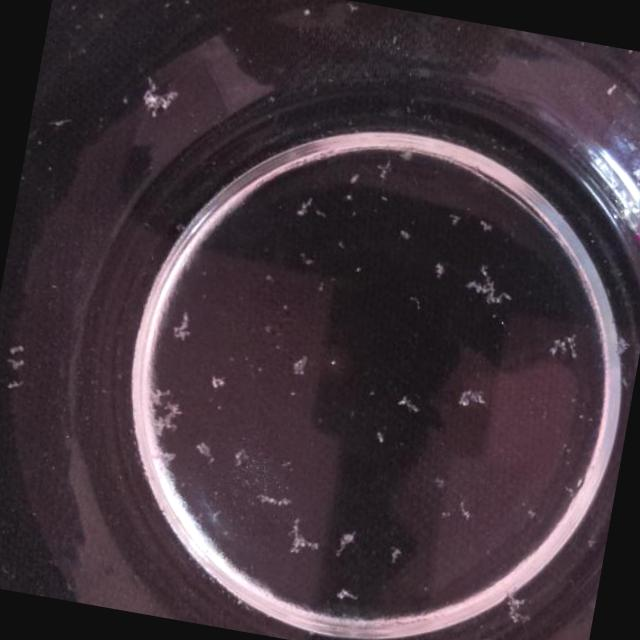fiber: (130, 372, 188, 438), (462, 248, 520, 312), (133, 68, 185, 116), (164, 302, 198, 349), (282, 514, 321, 554), (547, 327, 582, 371), (3, 342, 30, 397), (452, 378, 494, 413), (327, 522, 362, 562), (497, 587, 532, 627), (251, 488, 293, 514), (372, 144, 395, 188), (288, 191, 314, 228), (288, 347, 317, 380), (420, 254, 446, 288), (444, 201, 470, 229), (608, 328, 629, 362), (193, 438, 220, 463), (473, 212, 500, 236), (394, 392, 424, 413), (330, 586, 362, 604), (394, 220, 415, 247), (205, 371, 228, 395), (456, 498, 474, 523), (381, 546, 404, 565), (370, 432, 390, 449), (230, 452, 248, 468), (297, 250, 315, 266), (346, 168, 360, 186), (352, 264, 362, 274)
